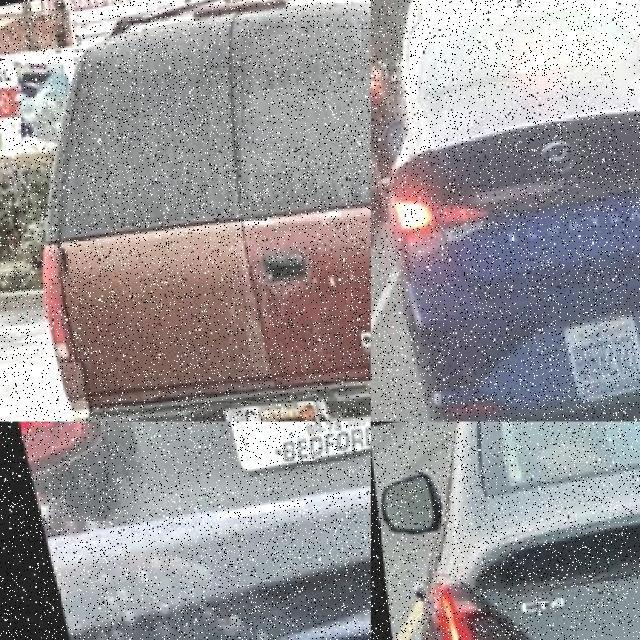LicensePlate: (220, 421, 370, 476), (551, 316, 639, 408), (230, 402, 307, 421)
